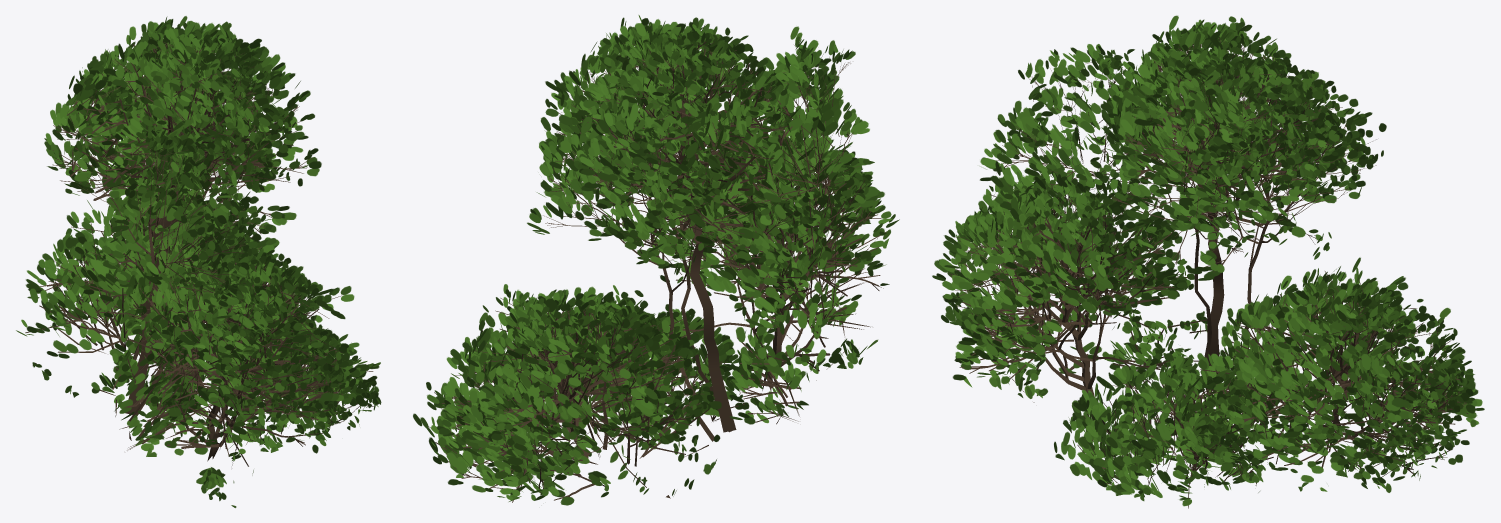
3 renders of one model, left to right at view 1: azimuth 30°, elevation 25°; view 2: azimuth 150°, elevation 25°; view 3: azimuth 270°, elevation 25°, orthographic. The views are drawn at different scales.
Visible parts, largest first — view 1: oak 01.001_trunk_Mat.001_0.405; view 2: oak 01.001_trunk_Mat.001_0.405; view 3: oak 01.001_trunk_Mat.001_0.405.
Boxes of the visible parts, x1,y1,x2,y2 form: oak 01.001_trunk_Mat.001_0.405: (16, 16, 381, 507); oak 01.001_trunk_Mat.001_0.405: (413, 15, 899, 505); oak 01.001_trunk_Mat.001_0.405: (932, 15, 1484, 508).
Size of the model in its own units: 3.12 by 4.15 by 5.05.
2 materials, 1 textured.
